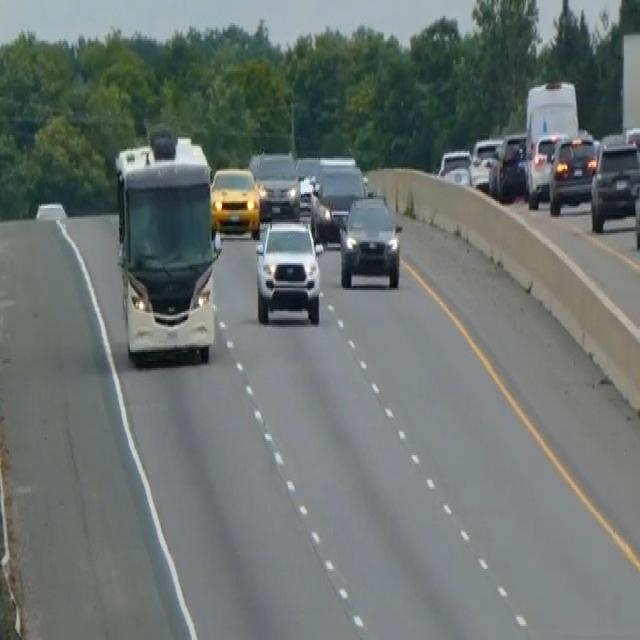bus: (112, 128, 219, 366)
car: (338, 192, 402, 290), (589, 131, 639, 233), (309, 162, 366, 245), (547, 130, 599, 215), (248, 148, 301, 222), (209, 164, 260, 236), (525, 130, 567, 206), (488, 130, 527, 201), (468, 135, 502, 190), (437, 146, 472, 187)
jeep: (253, 215, 322, 325)
minibus: (523, 76, 579, 208)
